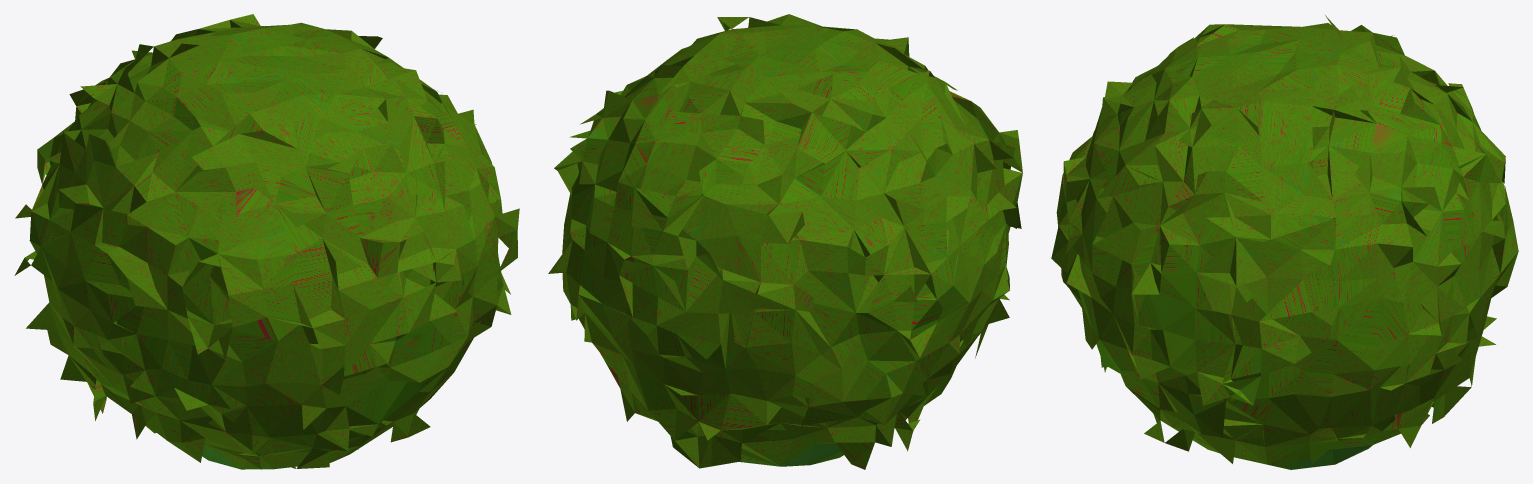
File: bush_lo.glb
3 views of the same model, side by side, from view 1: azimuth 30°, elevation 25°; view 2: azimuth 150°, elevation 25°; view 3: azimuth 270°, elevation 25° (orthographic). The views are drawn at different scales.
Parts seen in each view (by area): view 1: textured_mesh.obj; view 2: textured_mesh.obj; view 3: textured_mesh.obj.
Boxes of the visible parts, x1,y1,x2,y2 form: textured_mesh.obj: (14,14,519,469); textured_mesh.obj: (548,14,1022,469); textured_mesh.obj: (1051,15,1518,469).
Bounding box in the file's own units: 1.84 × 1.71 × 1.88.
1 material, 1 textured.
